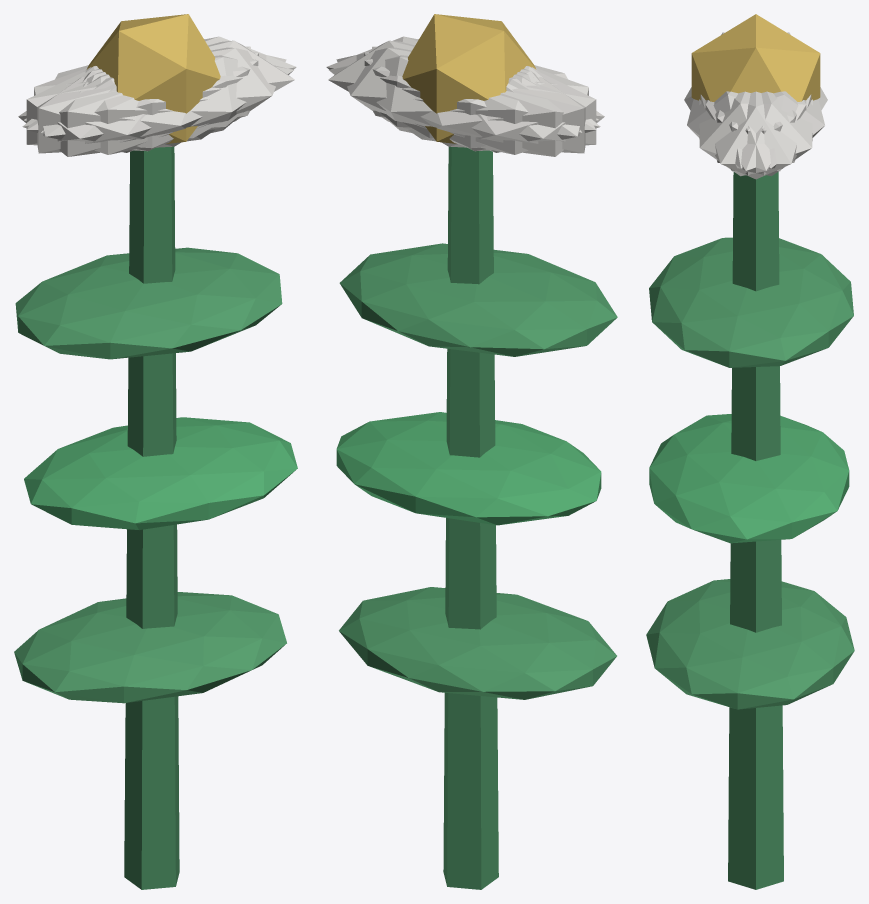
File: mauranthemum-paludosum.glb
3 renders of one model, left to right at view 1: azimuth 30°, elevation 25°; view 2: azimuth 150°, elevation 25°; view 3: azimuth 270°, elevation 25°, orthographic.
Visible parts, largest first — view 1: stem, leaf1, leaf2, leaf0, center, petal1, petal6, petal2, petal5, petal7, petal0, petal4 (+2 smaller); view 2: stem, leaf2, leaf0, leaf1, center, petal8, petal3, petal7, petal4, petal2, petal0, petal5 (+2 smaller); view 3: stem, leaf2, leaf1, leaf0, center, petal0, petal4, petal5, petal1, petal8.
Part boxes in pixels (box(x1,y1,x2,y2)): stem: box(124, 146, 179, 889); leaf1: box(24, 417, 297, 529); leaf2: box(15, 247, 282, 359); leaf0: box(14, 592, 286, 703); center: box(86, 14, 220, 143); petal1: box(22, 55, 293, 154); petal6: box(18, 67, 214, 156); petal2: box(37, 46, 250, 153); petal5: box(41, 47, 286, 148); petal7: box(26, 52, 258, 151); petal0: box(86, 40, 294, 138); petal4: box(24, 36, 296, 130); stem: box(443, 146, 498, 889); leaf2: box(339, 243, 617, 356); leaf0: box(339, 587, 616, 699); leaf1: box(336, 412, 601, 525); center: box(402, 14, 536, 143); petal8: box(329, 55, 600, 154); petal3: box(408, 67, 604, 156); petal7: box(372, 46, 585, 153); petal4: box(336, 47, 581, 148); petal2: box(364, 52, 596, 151); petal0: box(328, 40, 536, 138); petal5: box(326, 36, 598, 130); stem: box(728, 171, 783, 889); leaf2: box(649, 237, 853, 367); leaf1: box(649, 414, 849, 543); leaf0: box(646, 579, 854, 709); center: box(691, 14, 820, 101); petal0: box(700, 91, 811, 179); petal4: box(705, 91, 812, 176); petal5: box(699, 91, 806, 176); petal1: box(687, 91, 796, 168); petal8: box(715, 91, 824, 168).
Bounding box in the file's own units: 0.1452 × 0.4442 × 0.0992.
